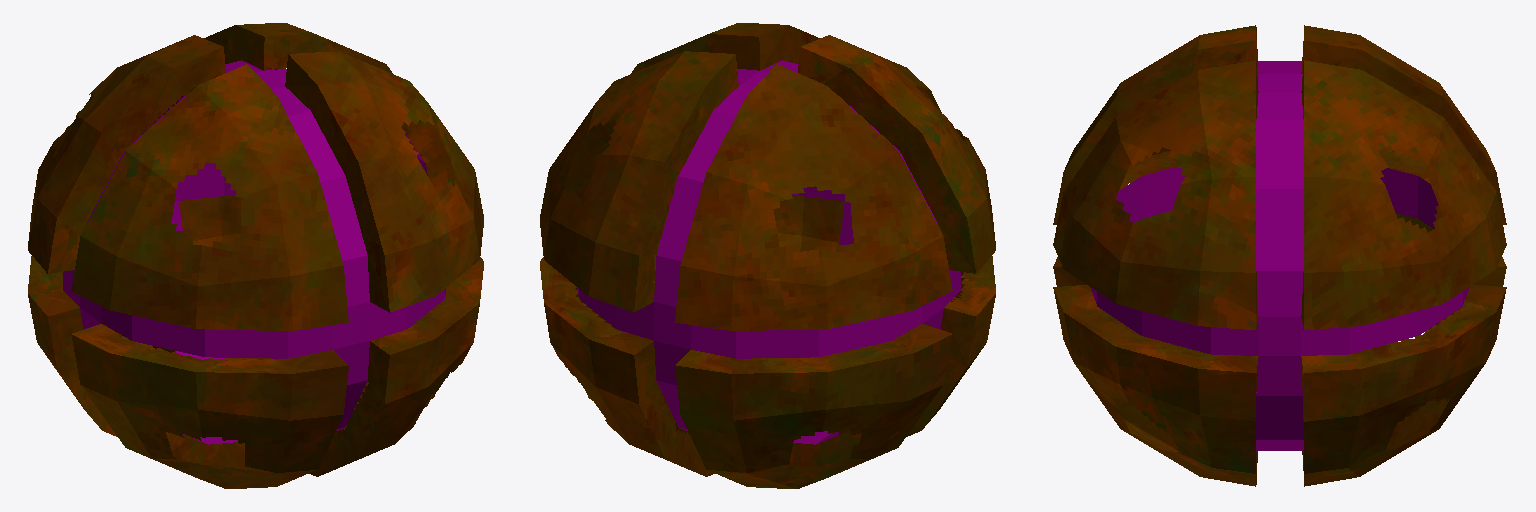
3 renders of one model, left to right at view 1: azimuth 30°, elevation 25°; view 2: azimuth 150°, elevation 25°; view 3: azimuth 270°, elevation 25°, orthographic.
Visible parts, largest first — view 1: Roundcube.001; view 2: Roundcube.001; view 3: Roundcube.001.
Part boxes in pixels (bbox=[...]): Roundcube.001: bbox=[28, 23, 483, 488]; Roundcube.001: bbox=[540, 23, 995, 488]; Roundcube.001: bbox=[1053, 25, 1506, 486].
Bounding box in the file's own units: 4.62 × 4.62 × 4.62.
2 materials, 1 textured.